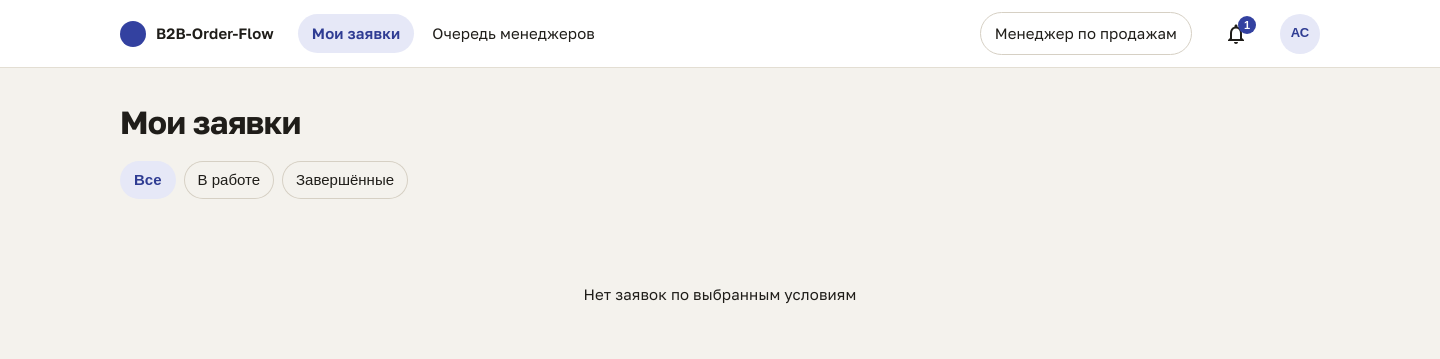
UI-14. Колокольчик › показывает число непрочитанных и последние уведомления с номером заявки
Expected: the text with test id "notifications-badge" reads "1", [1244, 18, 1250, 30]
Click the button with test id "notifications-bell".
click(1236, 34)  # box [1216, 14, 1256, 54]
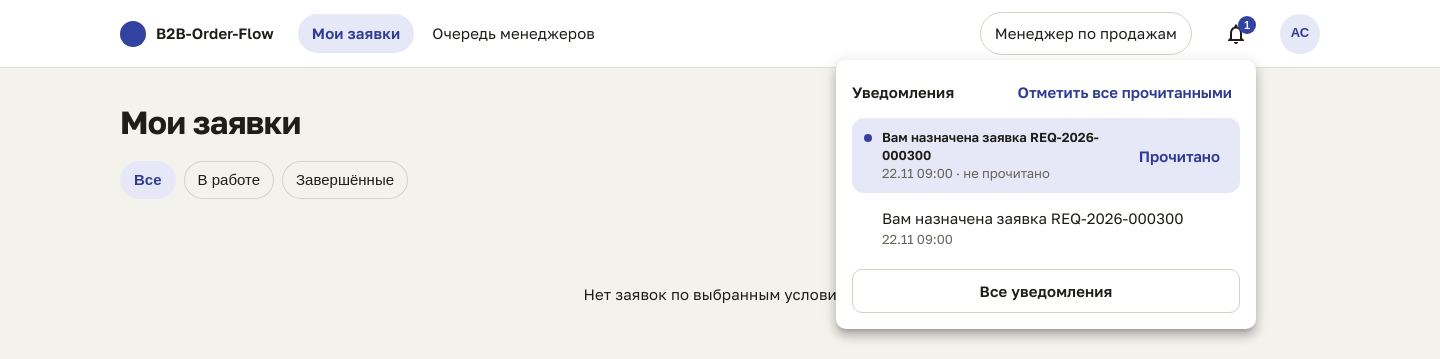
Now the 1st text "Вам назначена заявка REQ-2026-000300" is shown, box [882, 128, 1123, 164]
